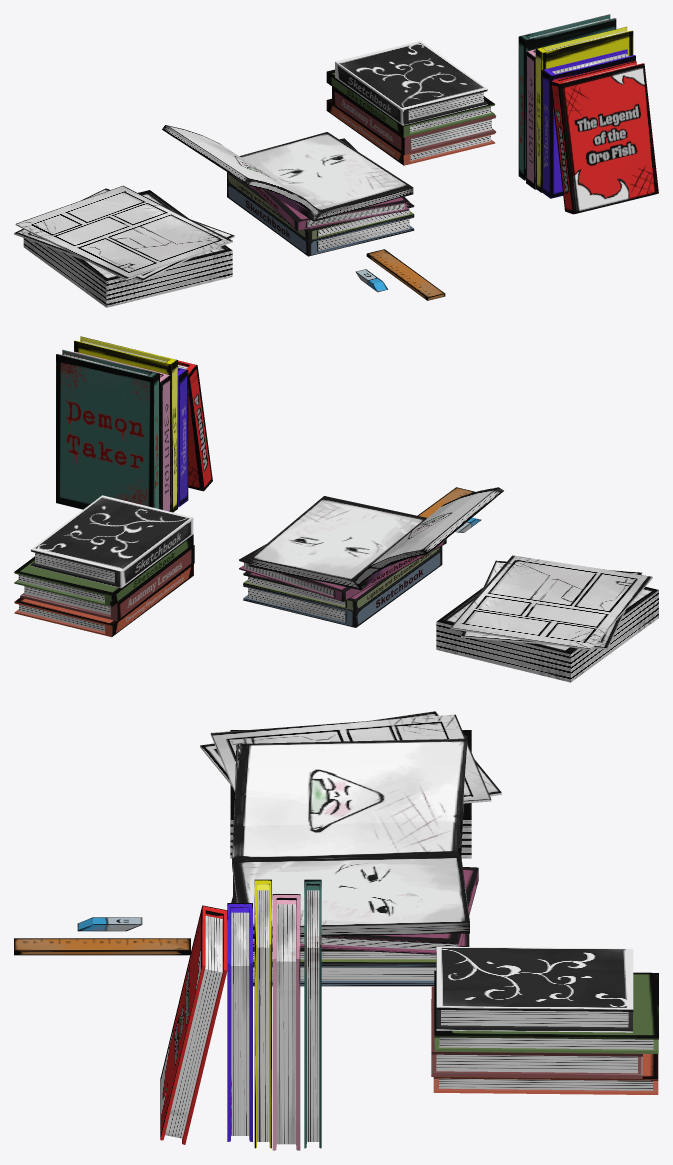
File: Sketchbooks, comics, rulers (1).glb
The picture shows the model from 3 angles, top to bottom: view 1: azimuth 30°, elevation 25°; view 2: azimuth 150°, elevation 25°; view 3: azimuth 270°, elevation 25°; orthographic projection. The views are drawn at different scales.
Parts seen in each view (by area): view 1: Stack of comics, Stack of sketchbooks.001, Sketchbook 1, Unfinished Comics, Stack of comics.001, Stack of sketchbooks, Ruler; view 2: Stack of comics, Stack of sketchbooks.001, Sketchbook 1, Unfinished Comics, Stack of comics.001, Stack of sketchbooks; view 3: Sketchbook 1, Stack of sketchbooks.001, Stack of comics, Stack of sketchbooks, Unfinished Comics, Ruler, Stack of comics.001, Eraser.
Boxes of the visible parts, x1,y1,x2,y2 form: Stack of comics: (518, 14, 658, 214); Stack of sketchbooks.001: (326, 41, 496, 165); Sketchbook 1: (162, 125, 413, 221); Unfinished Comics: (15, 185, 232, 280); Stack of comics.001: (14, 188, 234, 307); Stack of sketchbooks: (227, 138, 414, 256); Ruler: (366, 249, 445, 300); Stack of comics: (56, 336, 212, 512); Stack of sketchbooks.001: (14, 495, 194, 637); Sketchbook 1: (248, 487, 503, 590); Unfinished Comics: (450, 555, 652, 650); Stack of comics.001: (436, 560, 658, 682); Stack of sketchbooks: (239, 539, 446, 627); Sketchbook 1: (232, 738, 469, 938); Stack of sketchbooks.001: (431, 946, 658, 1094); Stack of comics: (160, 879, 321, 1150); Stack of sketchbooks: (231, 867, 478, 986); Unfinished Comics: (210, 714, 491, 803); Ruler: (14, 938, 190, 955); Stack of comics.001: (200, 711, 501, 858); Eraser: (77, 917, 142, 931).
Bounding box in the file's own units: 1.08 × 0.2627 × 0.746.
1 material, 1 textured.
